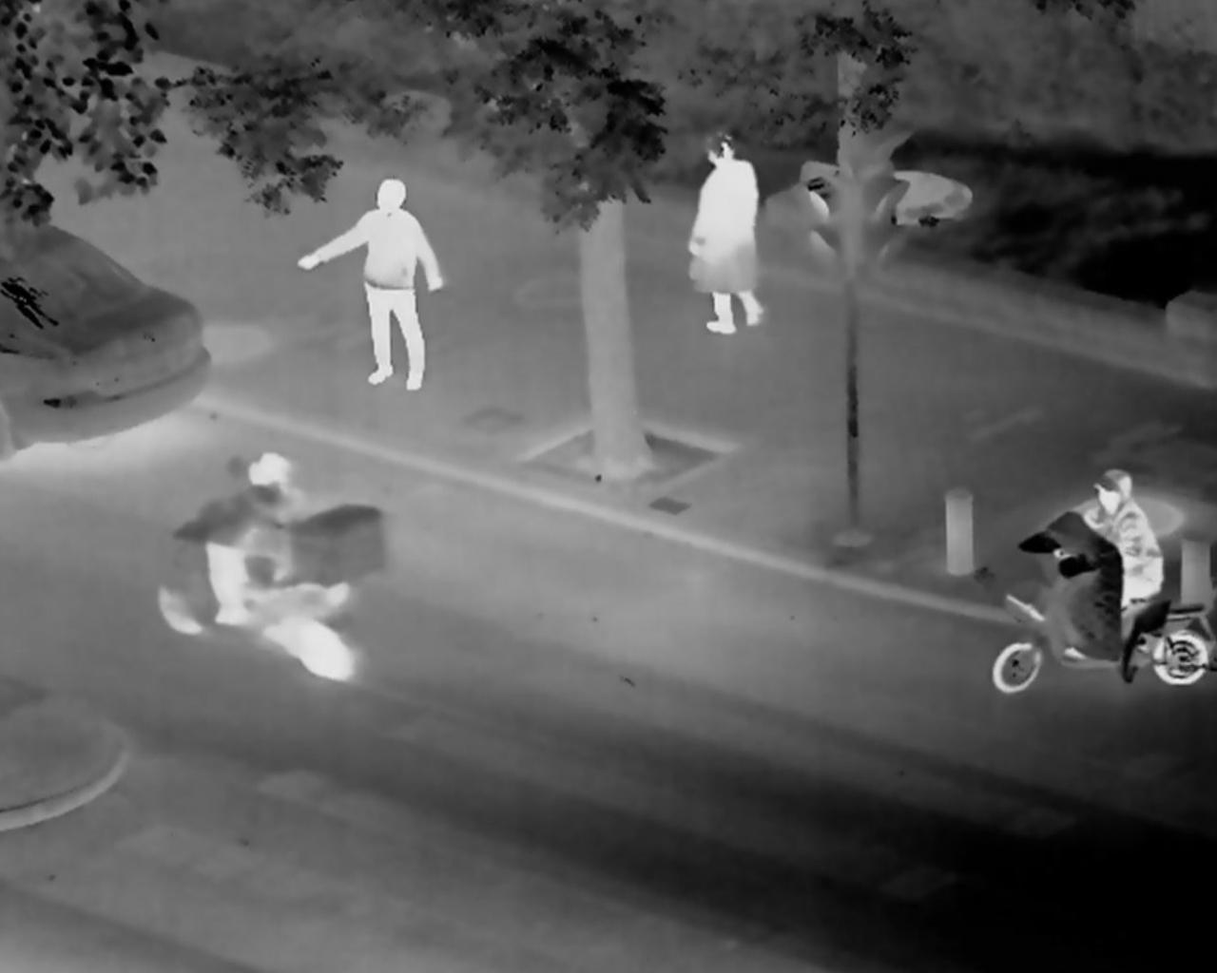person: (318, 172, 462, 404), (689, 138, 771, 351), (1078, 467, 1162, 652), (208, 432, 282, 633)
